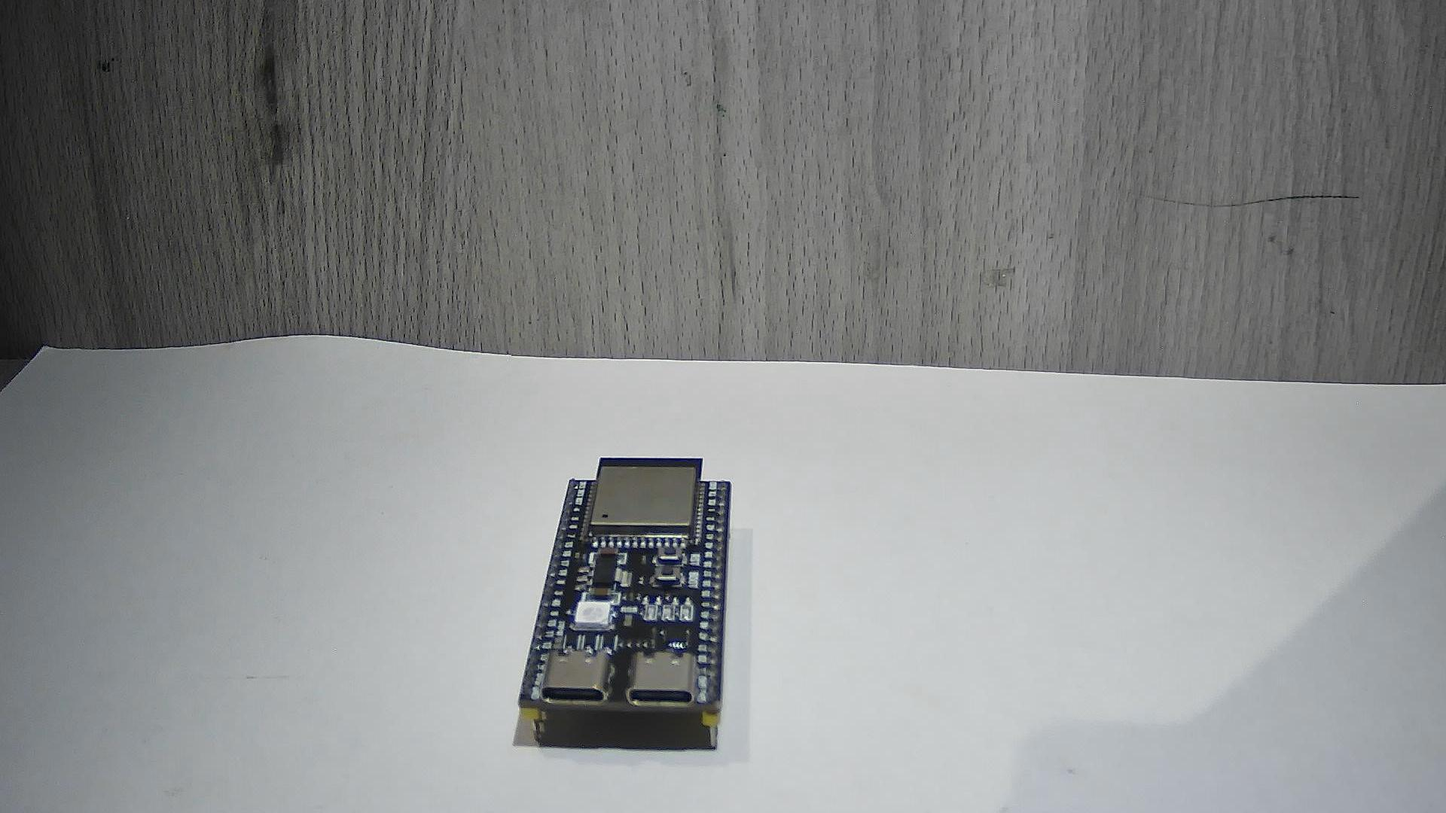ESP32: (500, 414, 756, 768)
